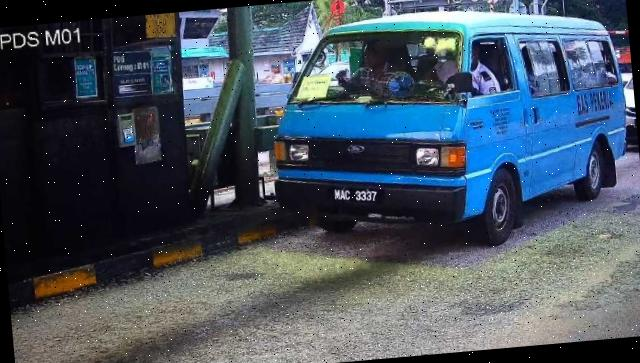License_Plate: (329, 181, 384, 211)
van: (262, 1, 637, 264)
